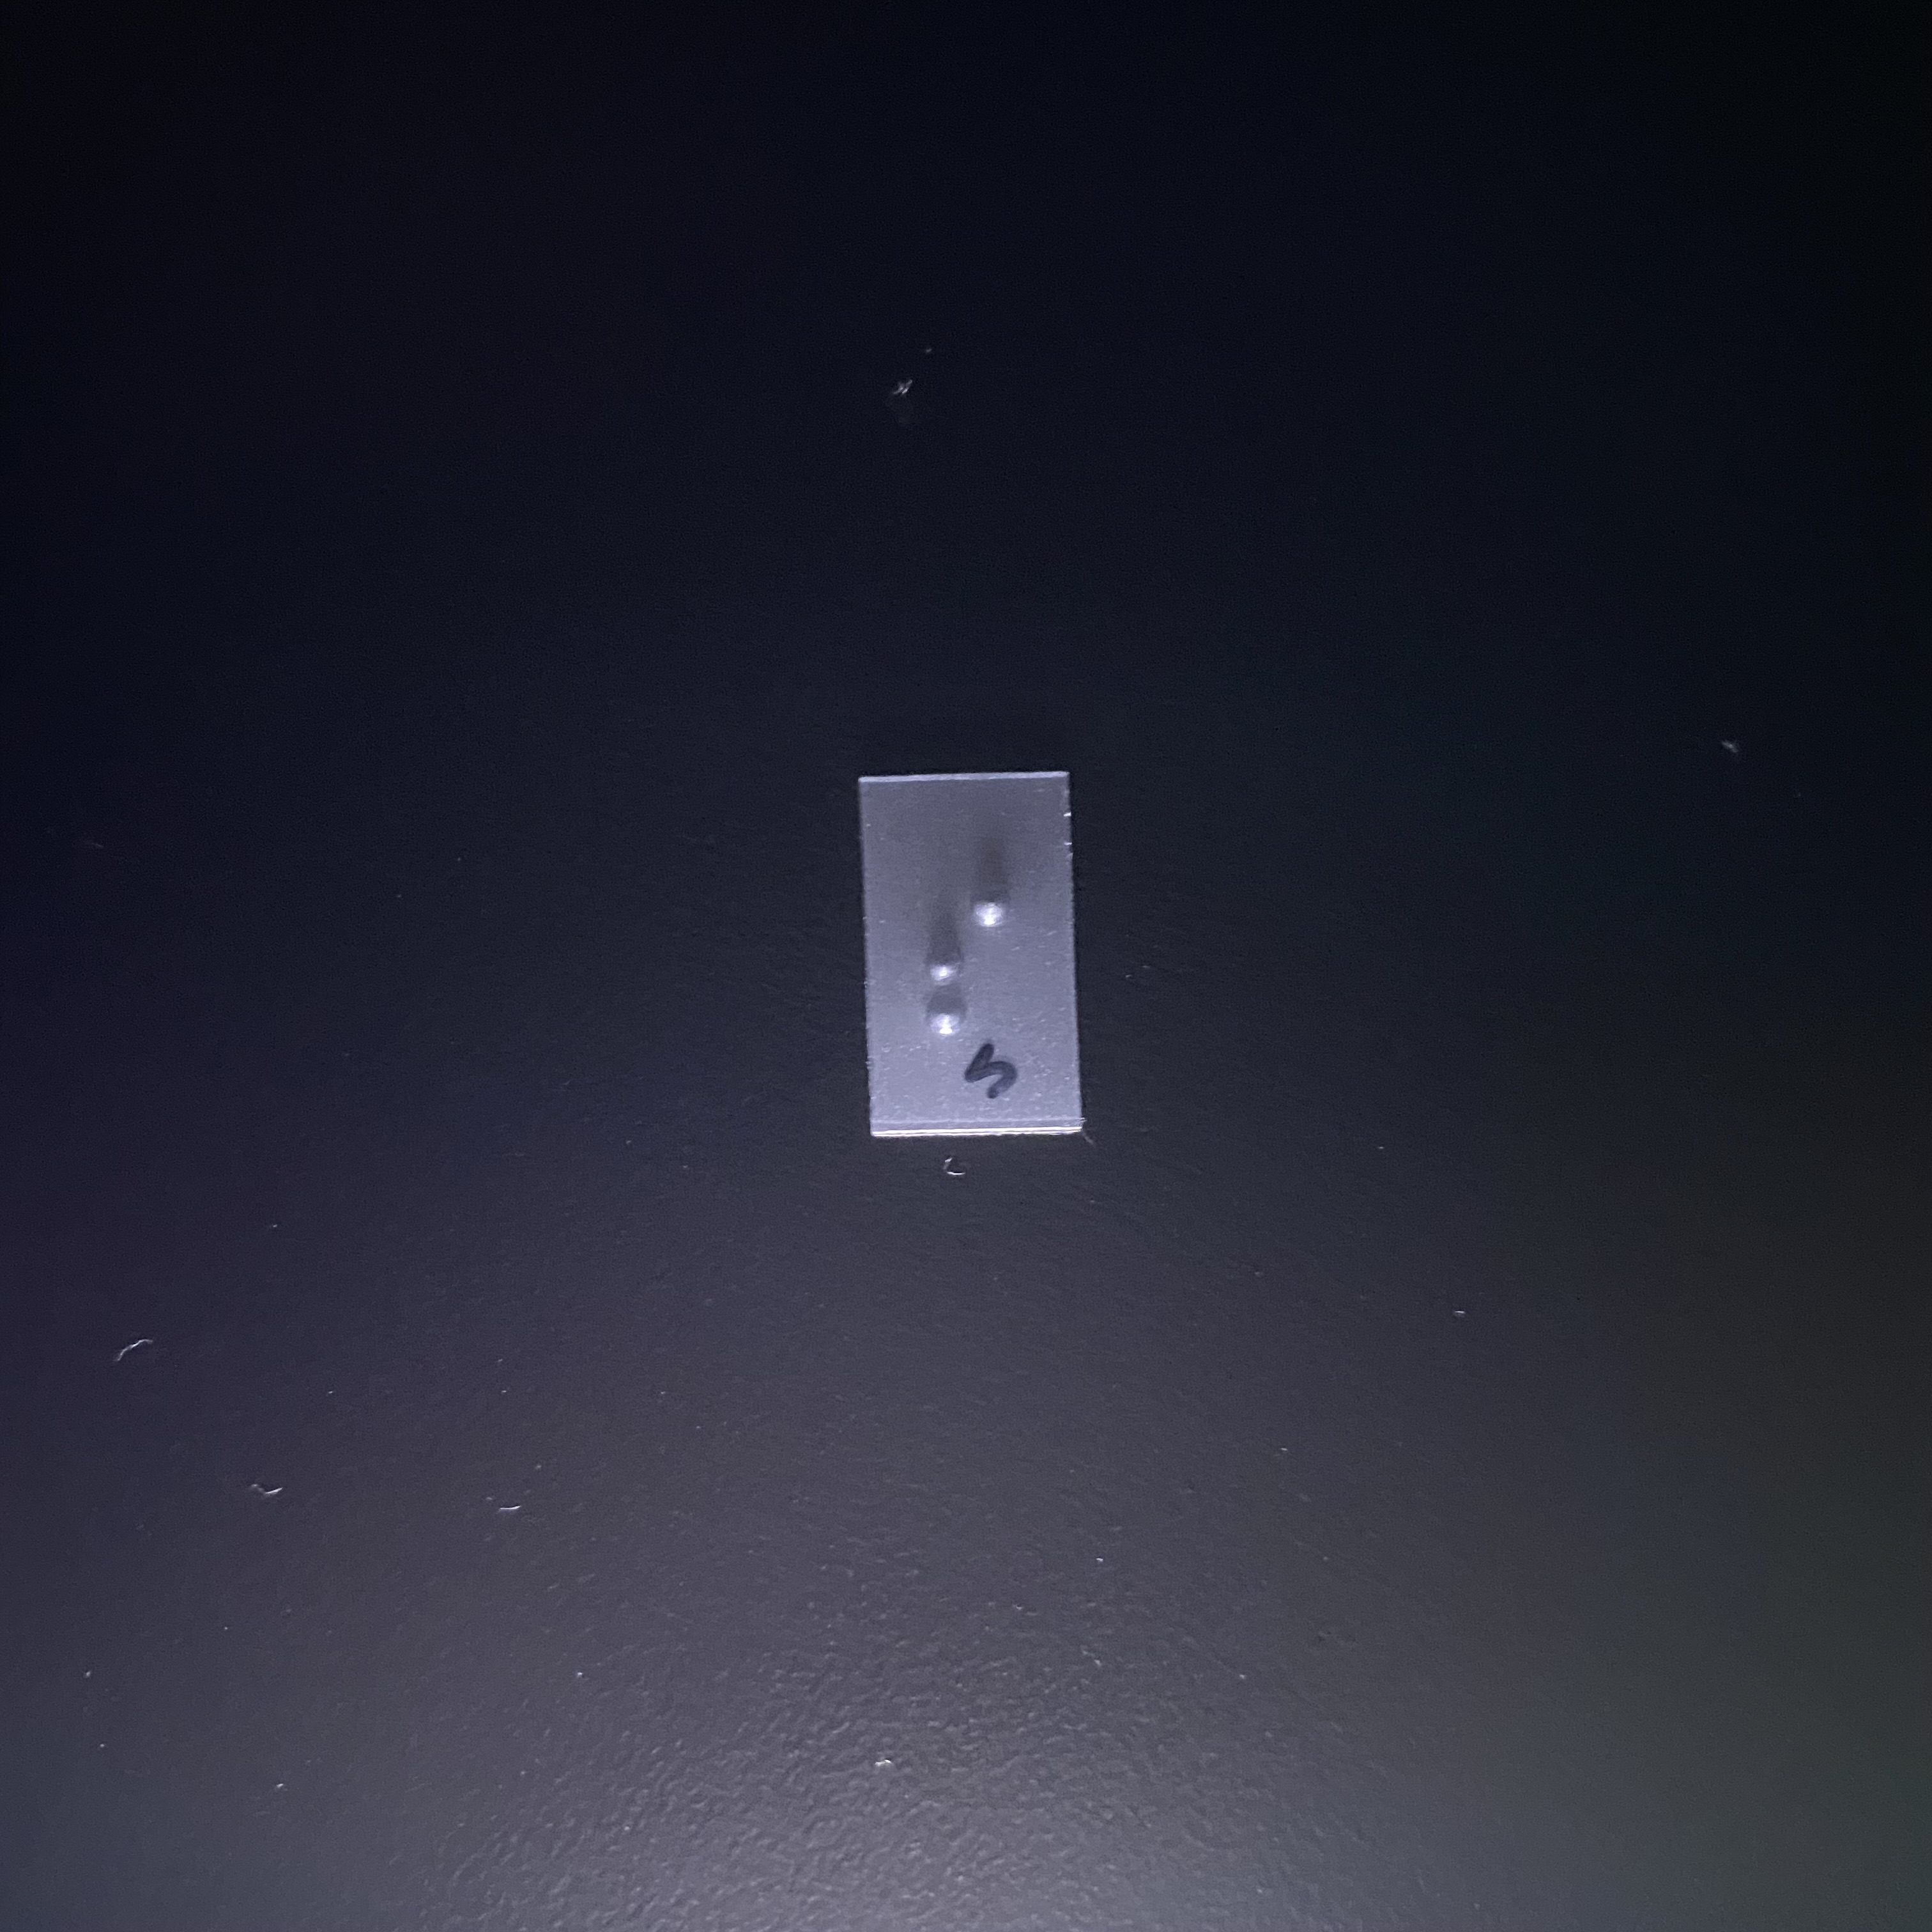s: (908, 859, 1034, 1039)
